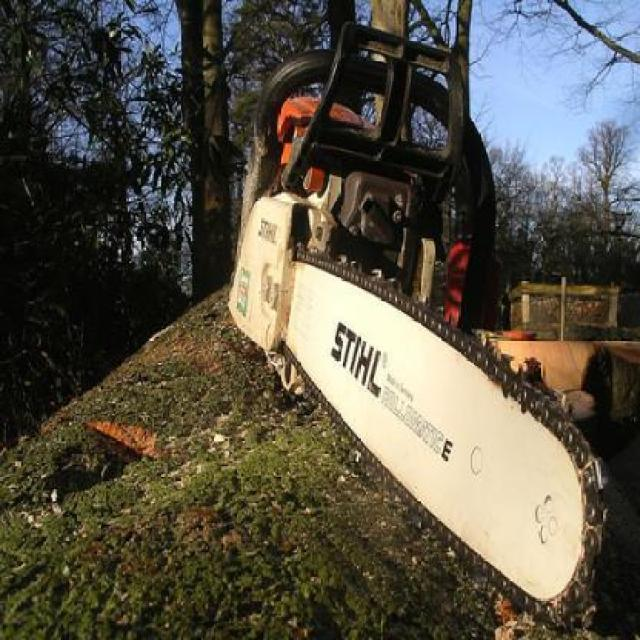Chainsaw: (223, 7, 619, 630)
